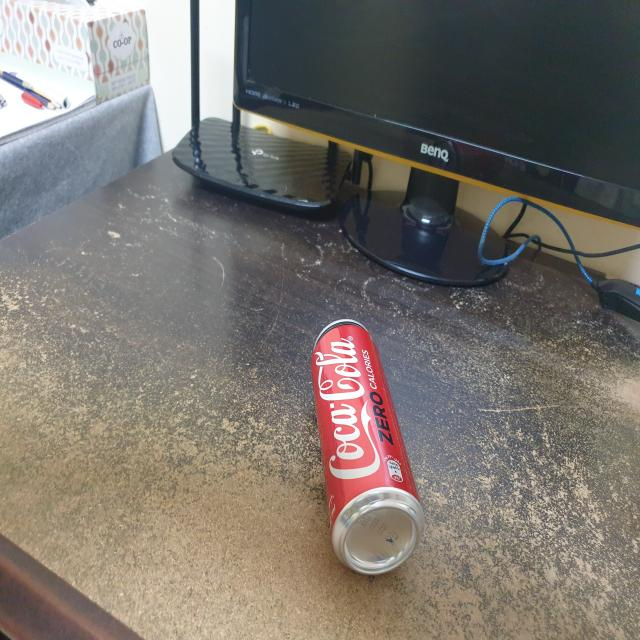non-organic waste: (301, 315, 434, 579)
